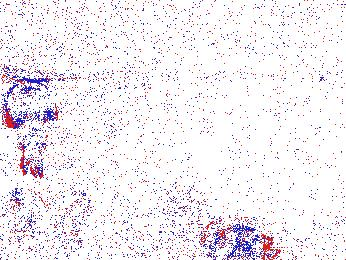flame jellyfish: (5, 80, 57, 177), (198, 216, 282, 260), (47, 188, 91, 244), (5, 187, 46, 234)
